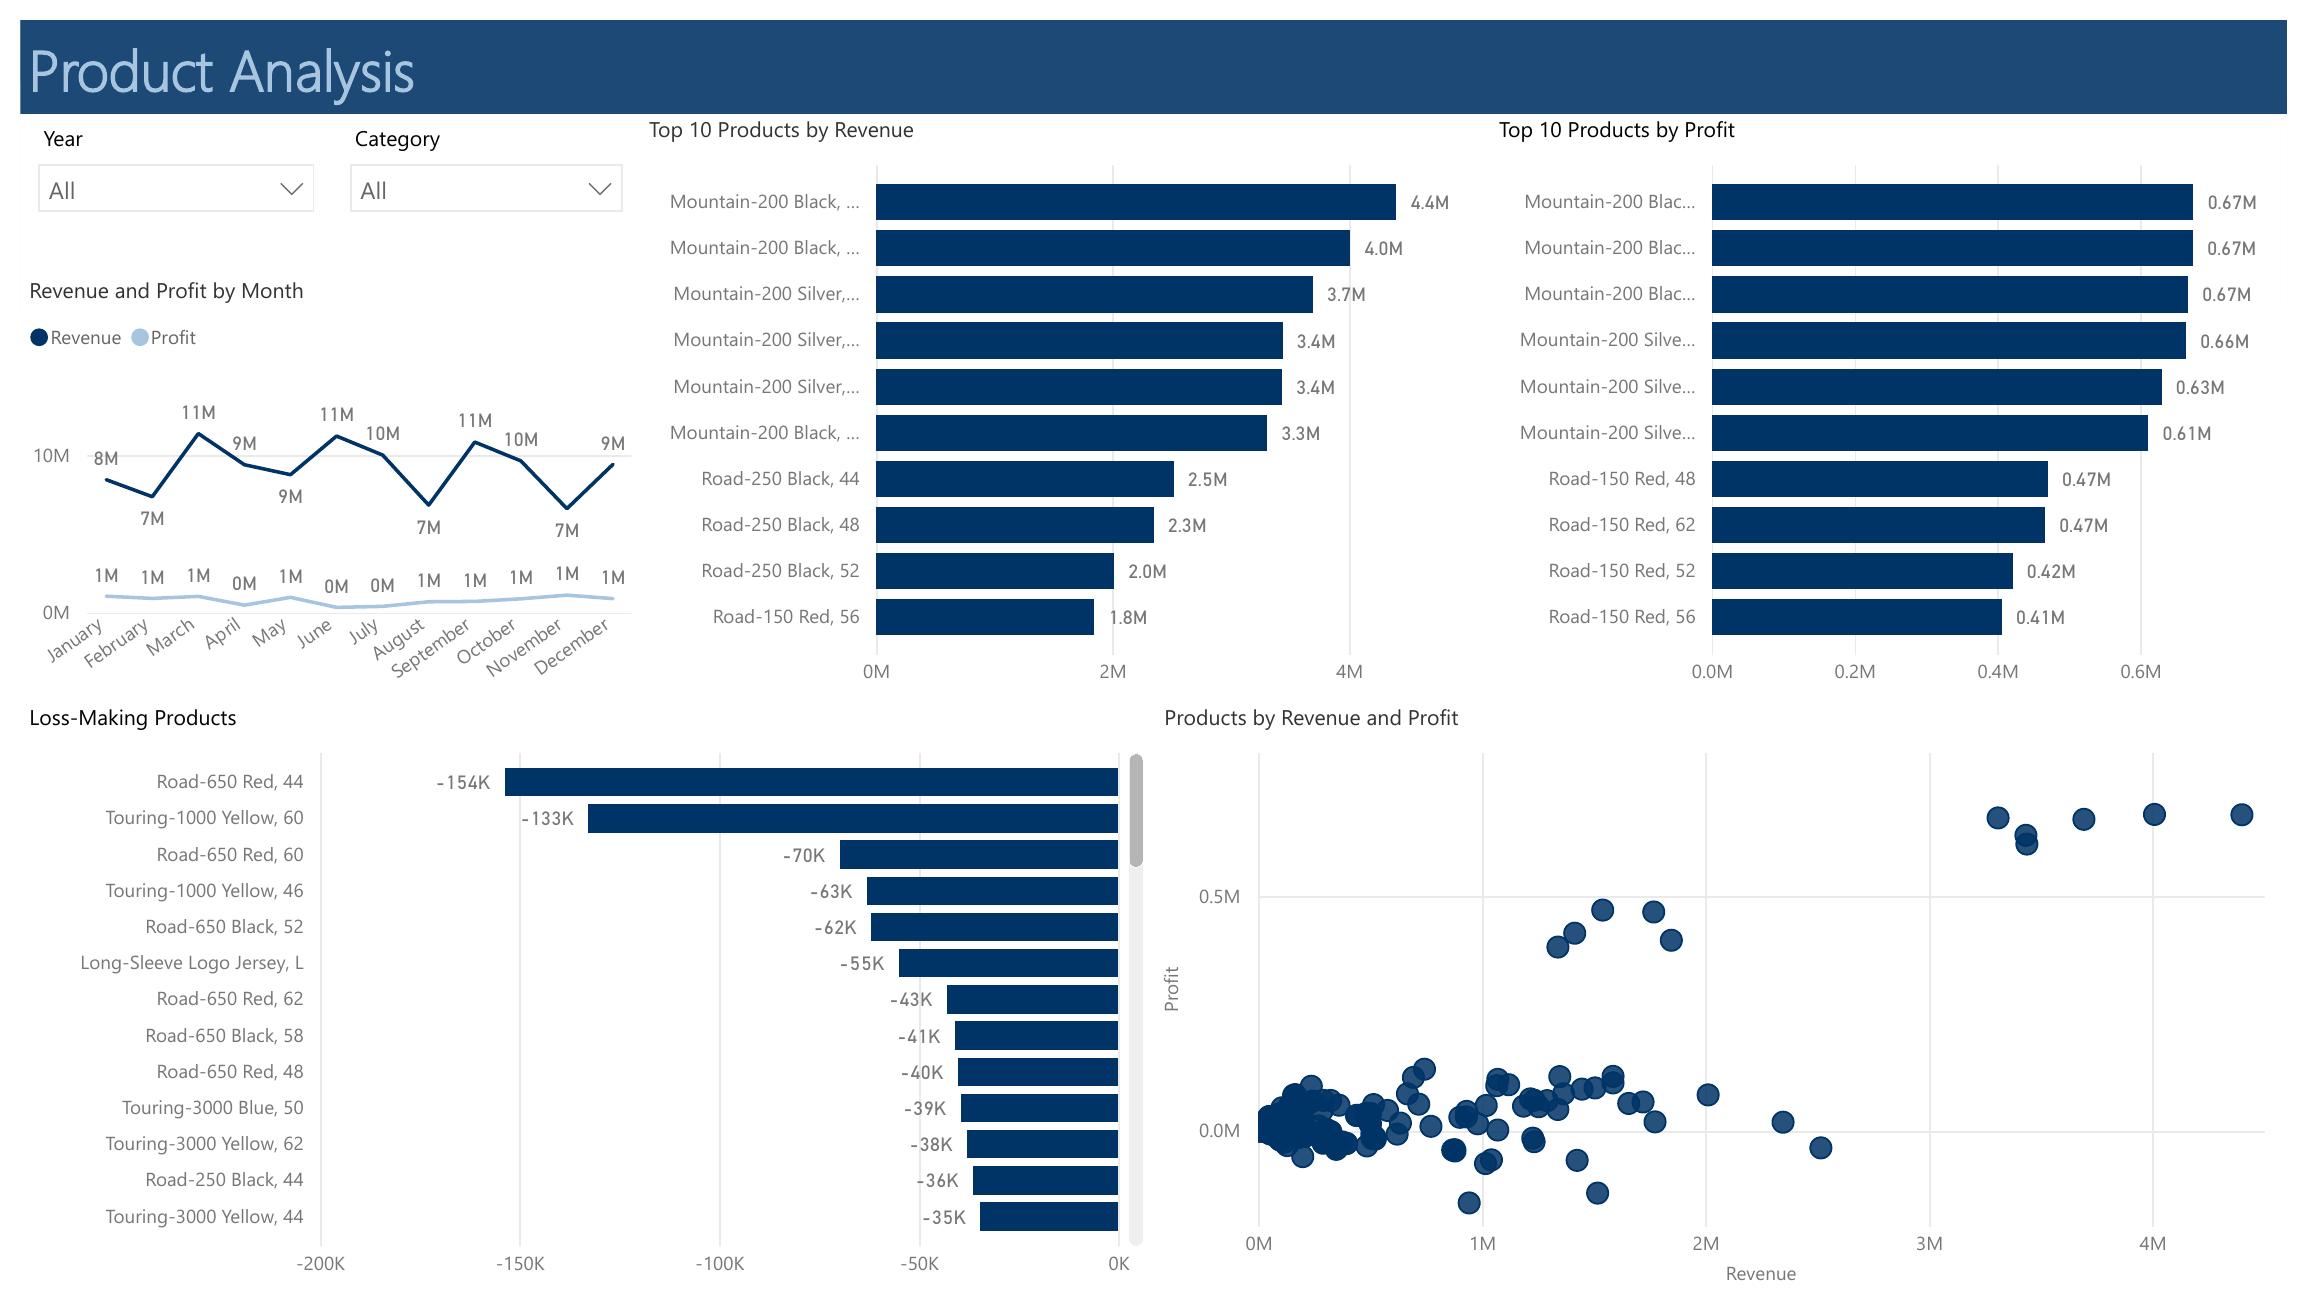

What the dashboard file says about the page in this screenshot:
{"tool":"powerbi","page":{"name":"Product Analysis","canvas":[1280,720],"ordinal":1},"visuals":[{"type":"barChart","title":"Top 10 Products by Profit","fields":{"Category":["Production Product.Name"],"Y":["Measure.Profit"]},"box":[829.8,53,449.7,331.6],"z":0},{"type":"barChart","title":"Loss-Making Products","fields":{"Category":["Production Product.Name"],"Y":["Measure.Profit"]},"box":[0,384.6,639,334.6],"z":1000},{"type":"scatterChart","title":"Products by Revenue and Profit","fields":{"X":["Measure.Revenue"],"Y":["Measure.Profit"],"Category":["Production Product.Name"]},"box":[640.5,384.6,639,334.6],"z":2000},{"type":"barChart","title":"Top 10 Products by Revenue","fields":{"Y":["Measure.Revenue"],"Category":["Production Product.Name"]},"box":[349.8,53,480,331.6],"z":3000},{"type":"slicer","fields":{"Values":["Production ProductCategory.Name"]},"box":[175.6,53,174.1,90.9],"z":4000},{"type":"textbox","box":[0,0,1279.5,53],"z":5000},{"type":"slicer","fields":{"Values":["DateTable.Year"]},"box":[0,53,175.6,90.9],"z":6000},{"type":"lineChart","fields":{"Y":["Measure.Revenue","Measure.Profit"],"Category":["DateTable.Month"]},"box":[0,143.8,349.8,240.8],"z":7000}]}

Visuals, with their boxes in screenshot pixels (x1, y1, x2, y2), scaled from the page's 1280x720 canvas onto the 2308x1301 screenshot:
"Top 10 Products by Profit" barChart: <region>1496, 96, 2307, 695</region>
"Loss-Making Products" barChart: <region>0, 695, 1152, 1300</region>
"Products by Revenue and Profit" scatterChart: <region>1155, 695, 2307, 1300</region>
"Top 10 Products by Revenue" barChart: <region>631, 96, 1496, 695</region>
slicer - Production ProductCategory.Name: <region>317, 96, 631, 260</region>
textbox: <region>0, 0, 2307, 96</region>
slicer - DateTable.Year: <region>0, 96, 317, 260</region>
lineChart - Measure.Revenue x Measure.Profit: <region>0, 260, 631, 695</region>
